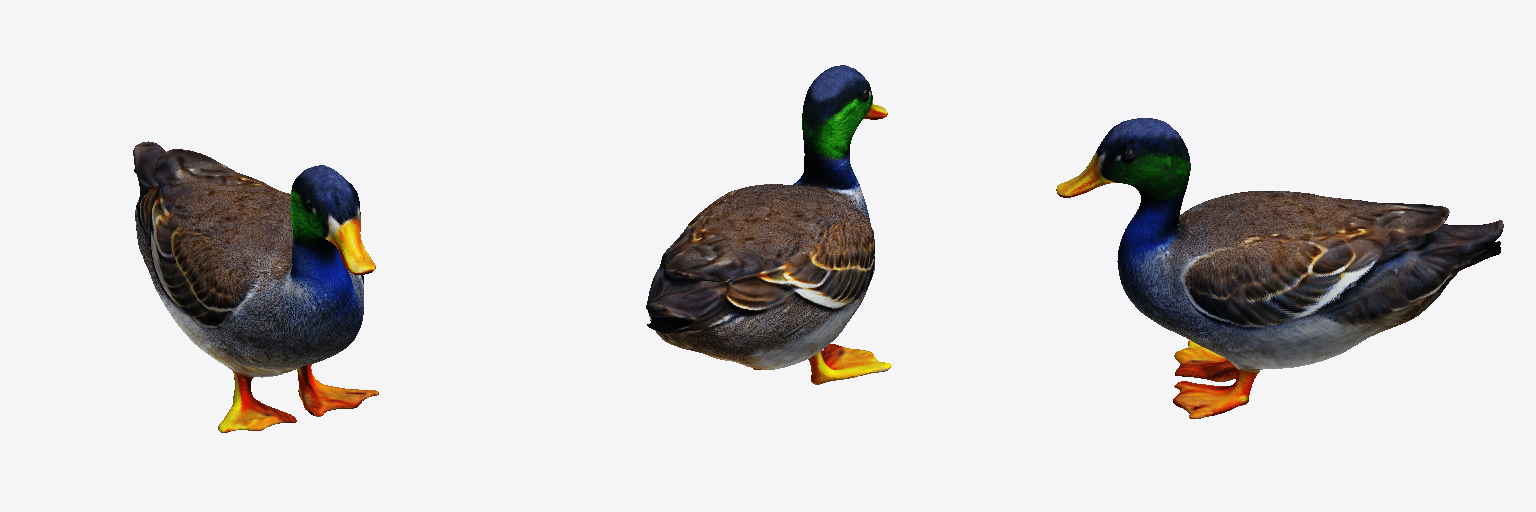
The picture shows the model from 3 angles: view 1: azimuth 30°, elevation 25°; view 2: azimuth 150°, elevation 25°; view 3: azimuth 270°, elevation 25°; orthographic projection.
Parts seen in each view (by area): view 1: Duck_Quad; view 2: Duck_Quad; view 3: Duck_Quad.
Part boxes in pixels (left/top/right/bottom): Duck_Quad: left=133, top=141, right=378, bottom=432; Duck_Quad: left=646, top=65, right=891, bottom=384; Duck_Quad: left=1056, top=118, right=1503, bottom=418.
Bounding box in the file's own units: 0.2032 × 0.3309 × 0.4911.
1 materials, 1 textured.